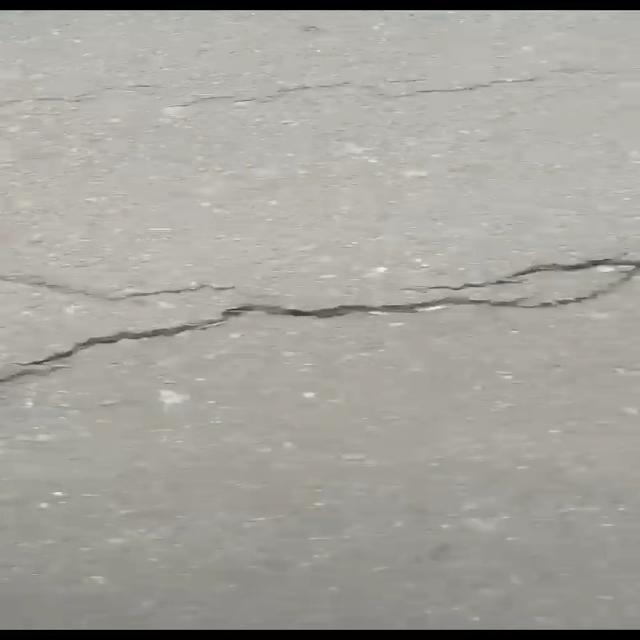Melintang: (3, 247, 640, 401)
